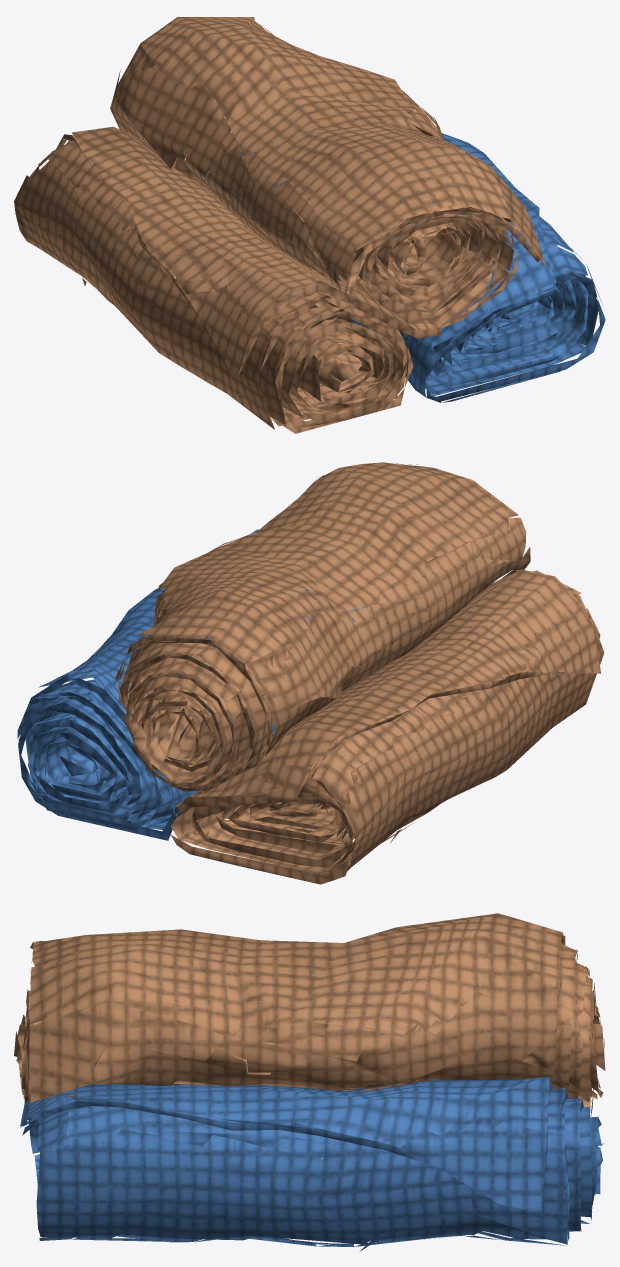
The model's file is towels.glb.
3 views of the same model, one above another, from view 1: azimuth 30°, elevation 25°; view 2: azimuth 150°, elevation 25°; view 3: azimuth 270°, elevation 25° (orthographic). The views are drawn at different scales.
Visible parts, largest first — view 1: towel; view 2: towel; view 3: towel.
Boxes of the visible parts, left/top/right/bottom form: towel: left=14, top=17, right=605, bottom=433; towel: left=17, top=462, right=604, bottom=884; towel: left=14, top=913, right=605, bottom=1251.
Bounding box in the file's own units: 0.1753 × 0.1006 × 0.2223.
2 materials, 2 textured.
